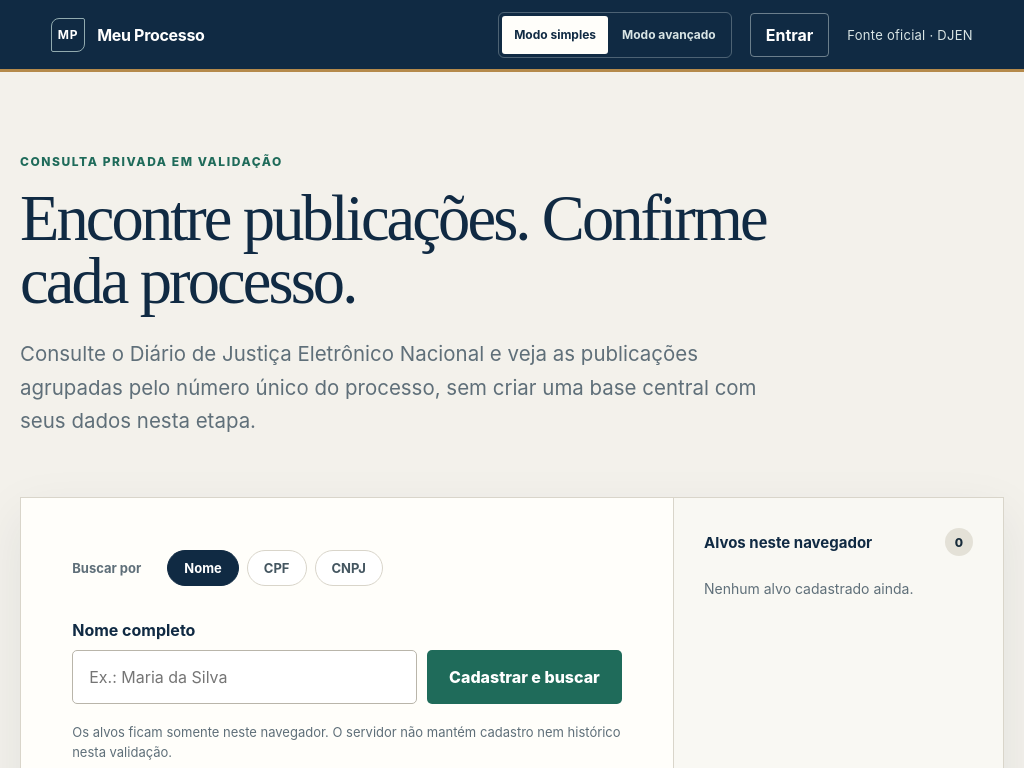
Test case: App › shows a safe API error and does not save a failed target
The image size is (1024, 768).
Click the button "Entrar": (790, 34) [750, 12, 829, 56]
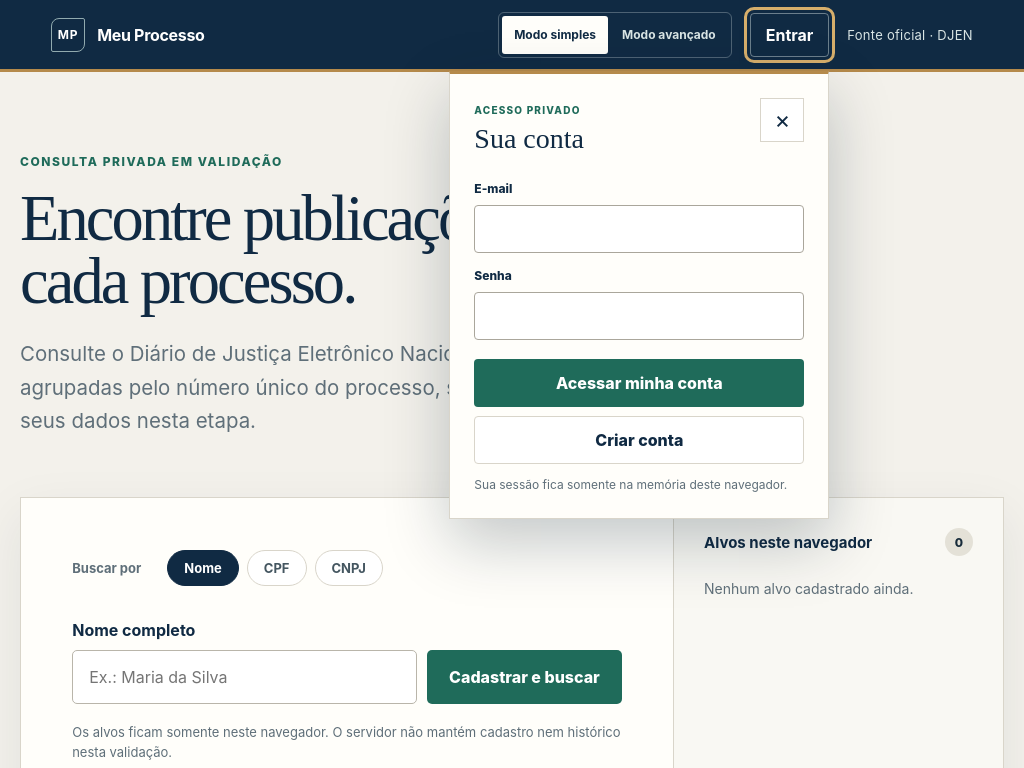
In the field labelled "E-mail": (639, 228) [474, 204, 804, 252], type "pessoa@example.test"
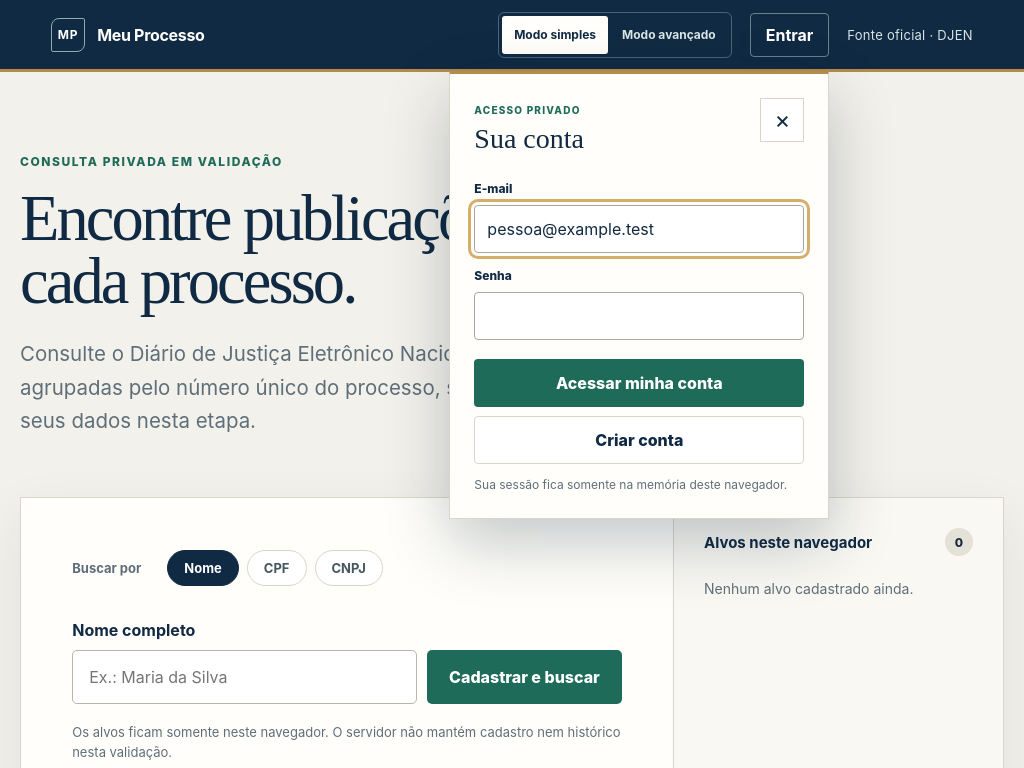
In the password field labelled "Senha": (639, 316) [474, 292, 804, 340], type "uma-senha-segura"
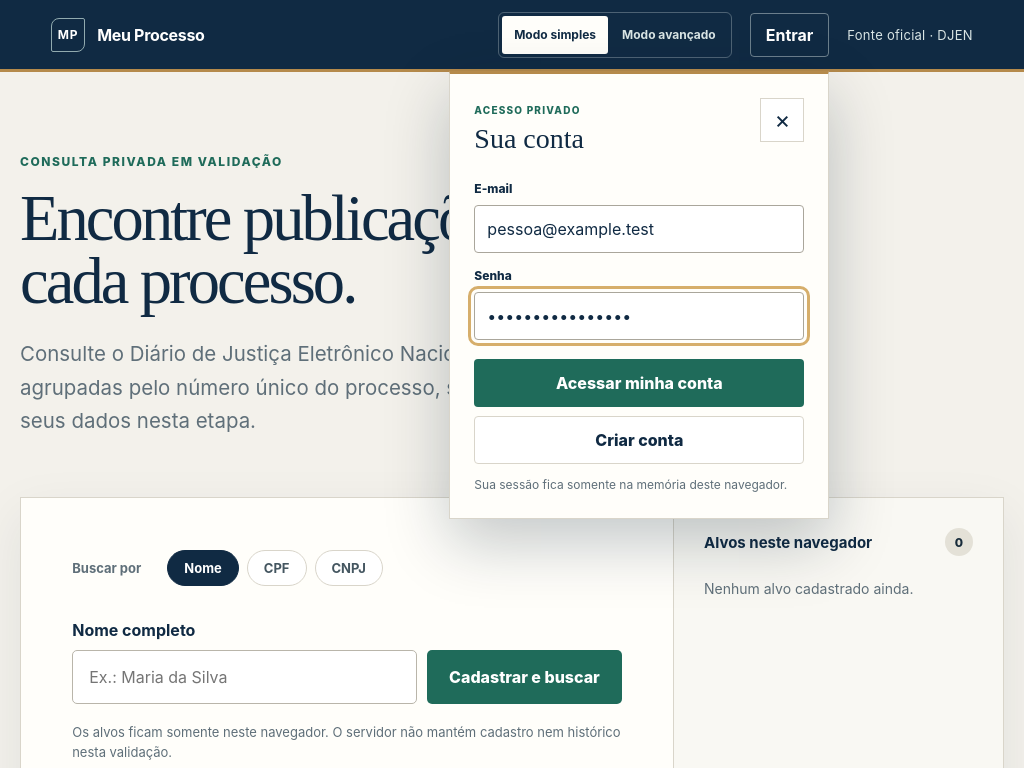
Click the button "Acessar minha conta": (639, 382) [474, 358, 804, 406]
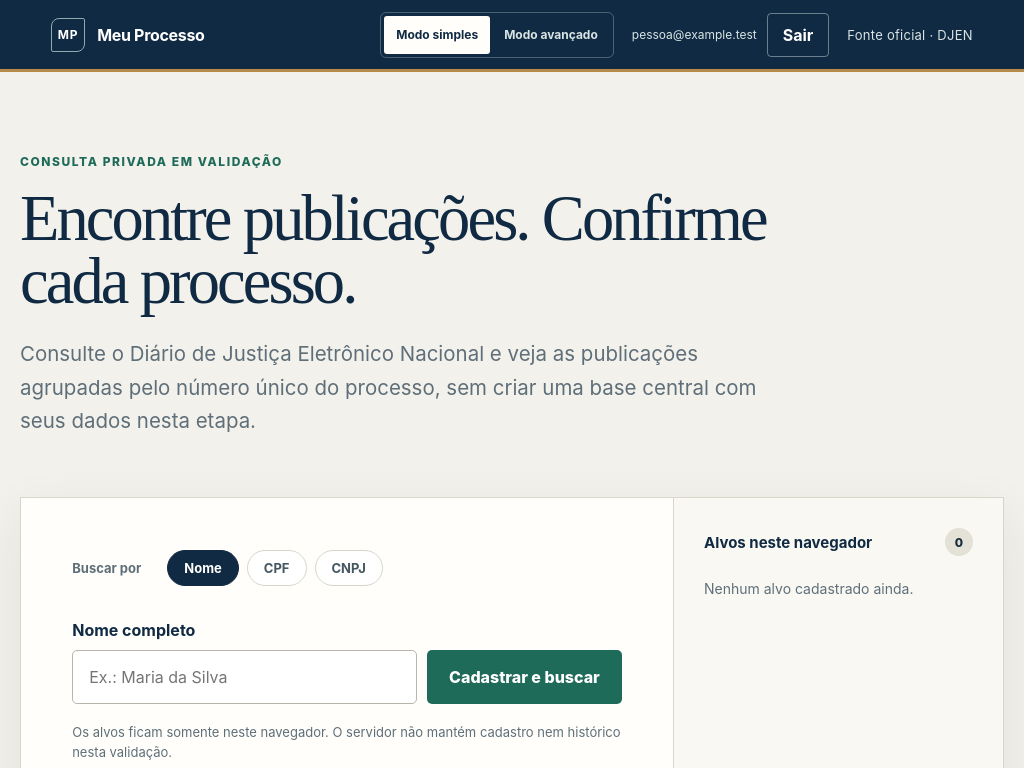
Result: the text "pessoa@example.test" is shown at [632, 27, 757, 42]
In the field labelled "Nome completo": (245, 676) [72, 650, 417, 704], type "Ana"
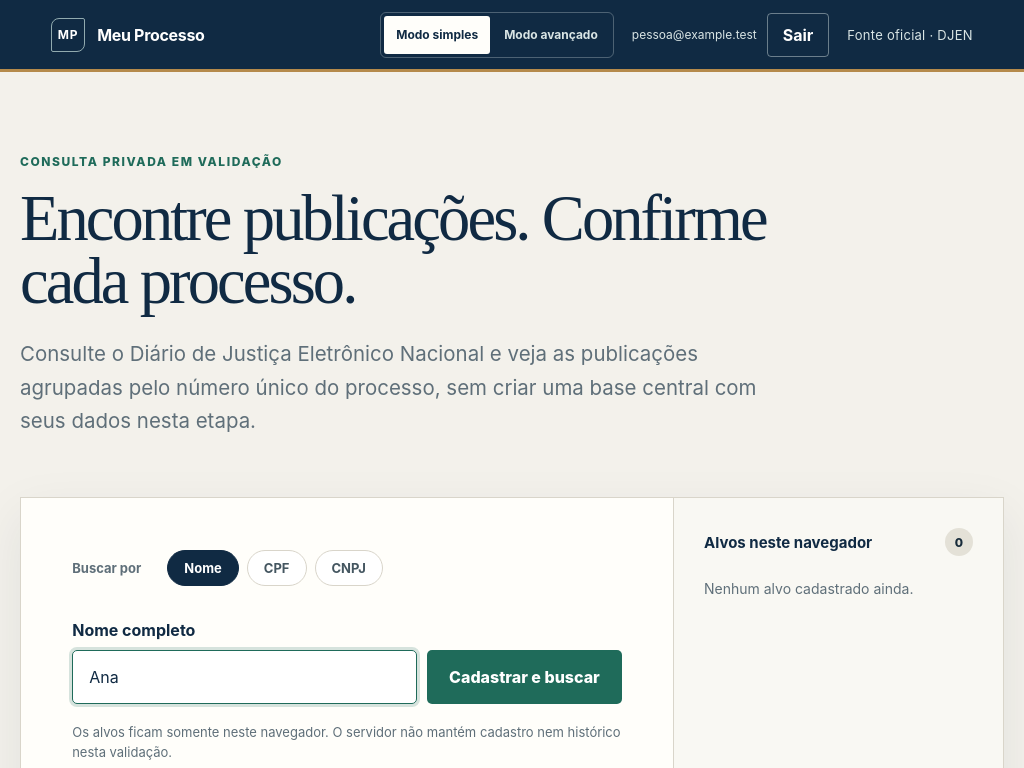
Click the button "Cadastrar e buscar": (524, 676) [427, 650, 622, 704]
(page scrolled)
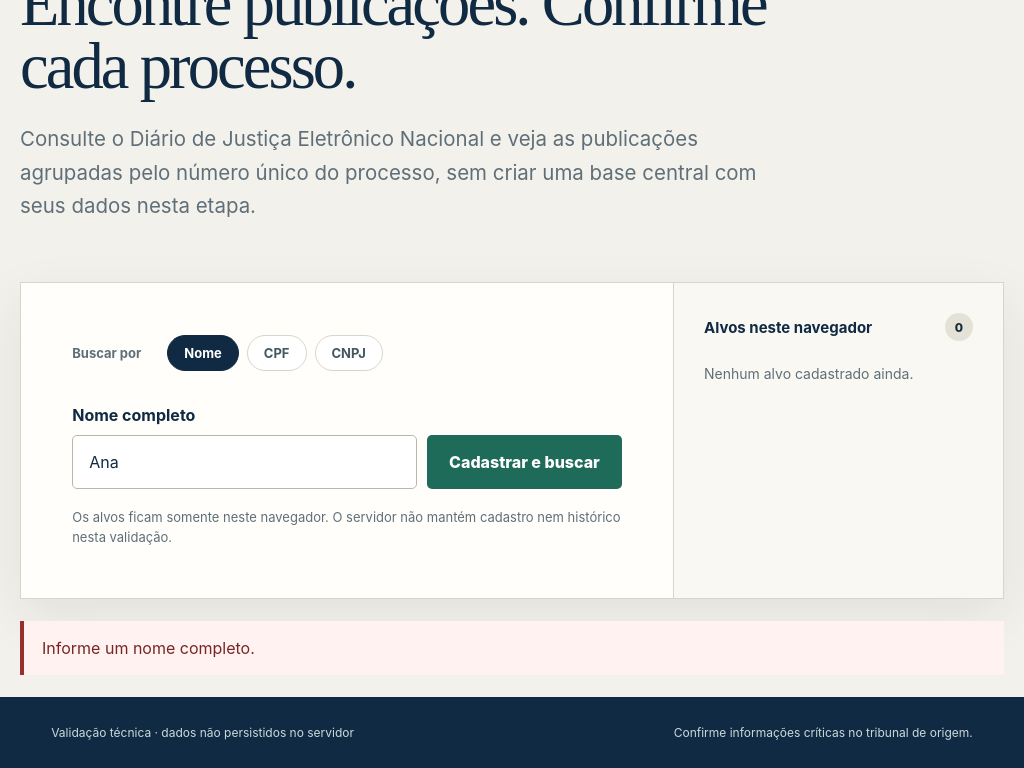
Result: the message reads "Informe um nome completo." at [42, 638, 255, 658]
